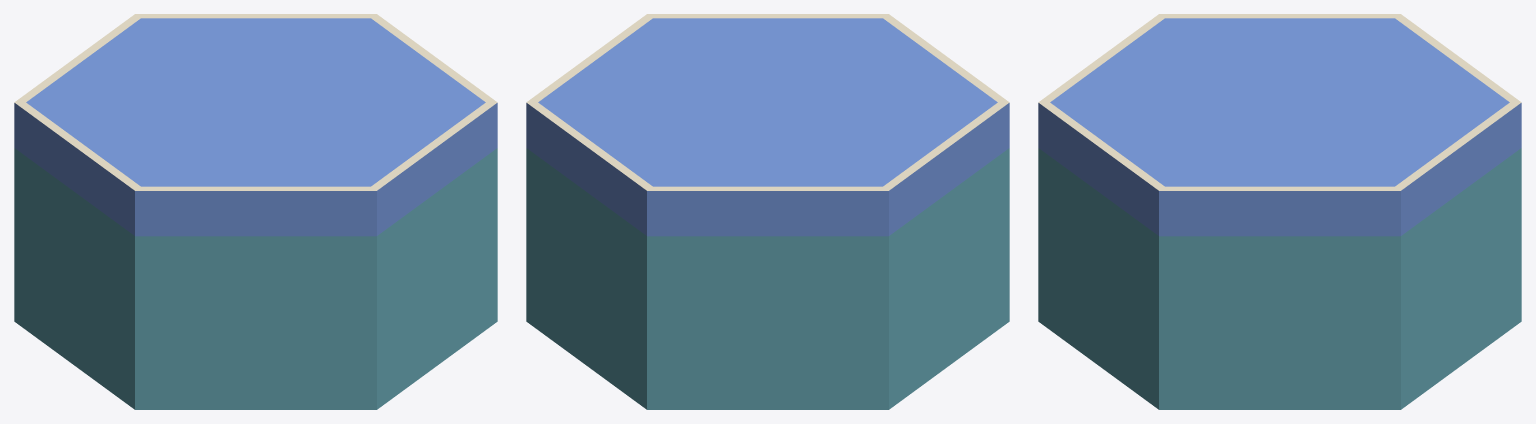
Rendered from M_WaterTile.fbx.
3 renders of one model, left to right at view 1: azimuth 30°, elevation 25°; view 2: azimuth 150°, elevation 25°; view 3: azimuth 270°, elevation 25°, orthographic.
Parts seen in each view (by area): view 1: water_tile; view 2: water_tile; view 3: water_tile.
Part boxes in pixels (bbox=[...]): water_tile: bbox=[14, 14, 497, 409]; water_tile: bbox=[526, 14, 1009, 409]; water_tile: bbox=[1038, 14, 1521, 409].
Size of the model in its own units: 1.73 by 1 by 2.
Materials: 1 (1 with a texture image).
